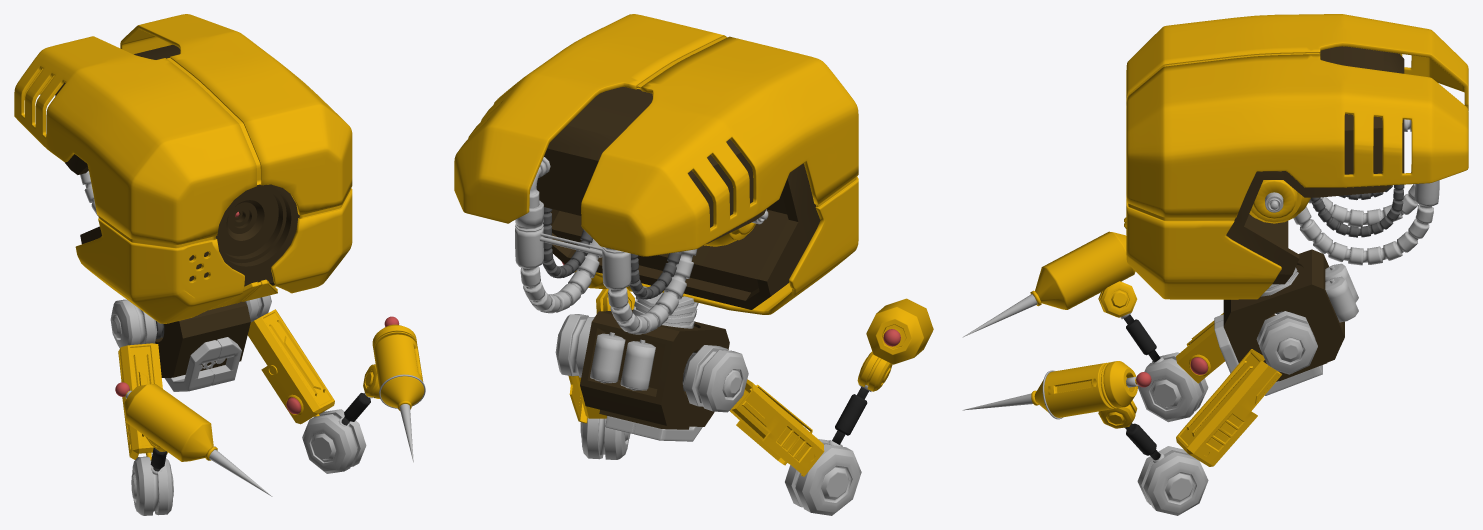
The model's file is Robot.fbx.
3 views of the same model, side by side, from view 1: azimuth 30°, elevation 25°; view 2: azimuth 150°, elevation 25°; view 3: azimuth 270°, elevation 25° (orthographic). The views are drawn at different scales.
Parts seen in each view (by area): view 1: Default; view 2: Default; view 3: Default.
Part boxes in pixels (x1,y1,x2,y2): Default: (14,14,425,515); Default: (454,14,933,515); Default: (962,14,1468,515).
Bounding box in the file's own units: 122 × 154 × 174.
